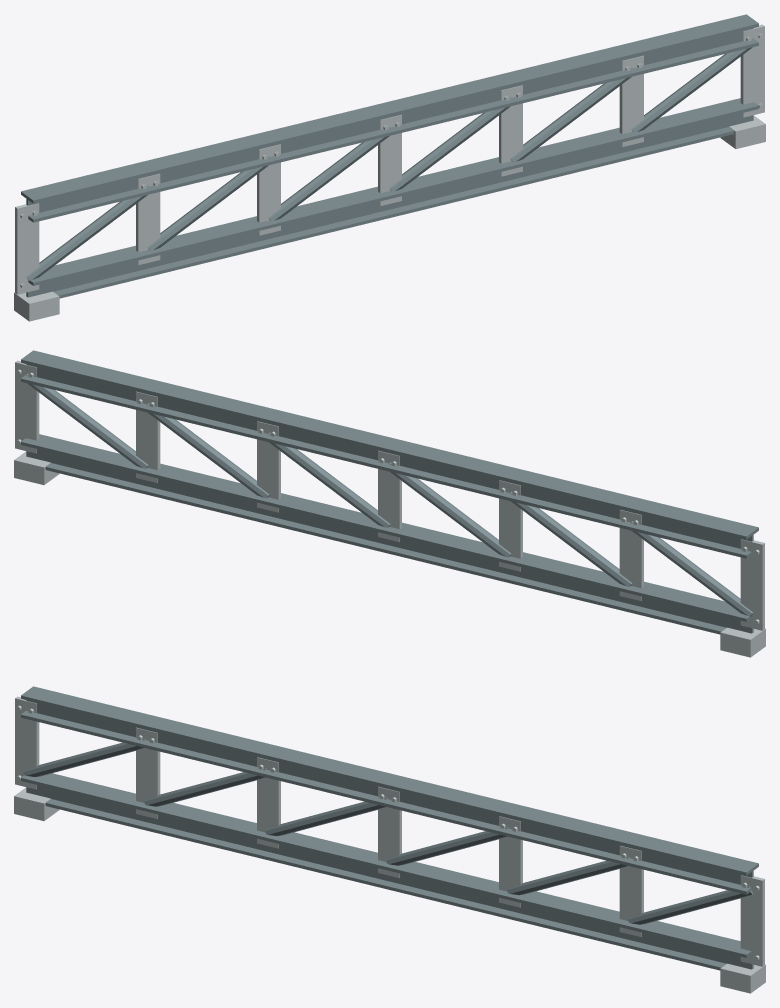
The model's file is roof_truss.glb.
3 views of the same model, one above another, from view 1: azimuth 30°, elevation 25°; view 2: azimuth 150°, elevation 25°; view 3: azimuth 330°, elevation 25° (orthographic).
Parts seen in each view (by area): view 1: roof_truss_SPOT_structure_coated_steel.002, roof_truss_SPOT_structure_galvanized.002; view 2: roof_truss_SPOT_structure_coated_steel.002, roof_truss_SPOT_structure_galvanized.002; view 3: roof_truss_SPOT_structure_coated_steel.002, roof_truss_SPOT_structure_galvanized.002.
Boxes of the visible parts, x1,y1,x2,y2 form: roof_truss_SPOT_structure_coated_steel.002: (21,14,758,298); roof_truss_SPOT_structure_galvanized.002: (14,24,765,321); roof_truss_SPOT_structure_coated_steel.002: (21,350,758,634); roof_truss_SPOT_structure_galvanized.002: (14,360,765,657); roof_truss_SPOT_structure_coated_steel.002: (21,686,758,970); roof_truss_SPOT_structure_galvanized.002: (14,696,765,993).
Size of the model in its own units: 6.18 by 0.9375 by 0.22.
